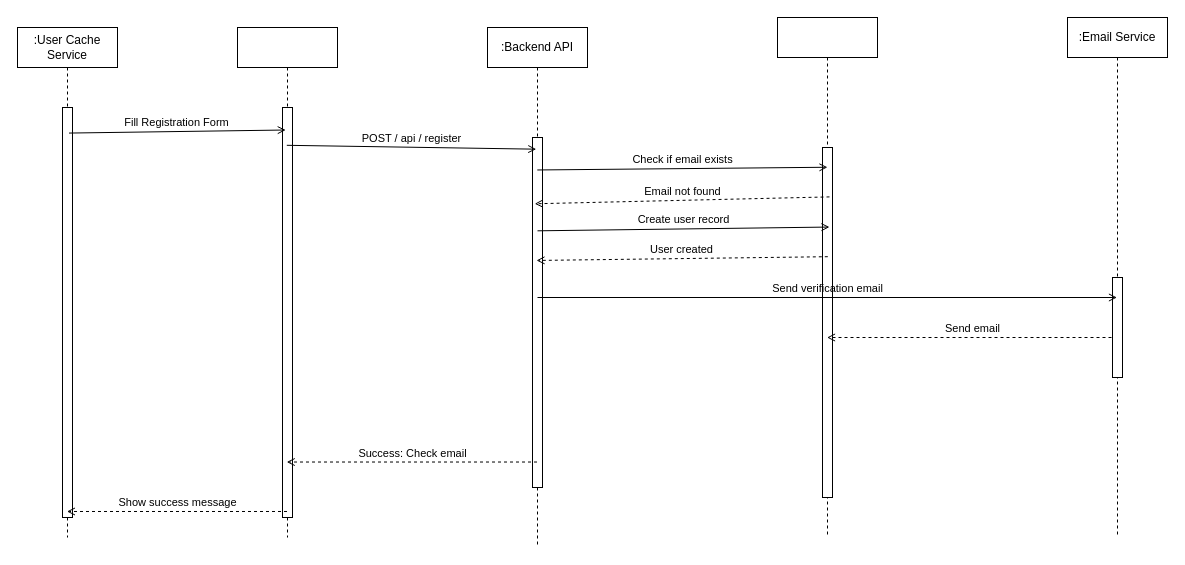
The diagram is 1185 pixels wide and 565 high, and some of its shapes have lost their labels. The shapes that lost their labels are listed below. From the top down, each one's box as (x1, y1, x2, y2) in pixels, then its label:
(236, 26, 338, 538): :Web Interface
(776, 16, 878, 538): :Database
